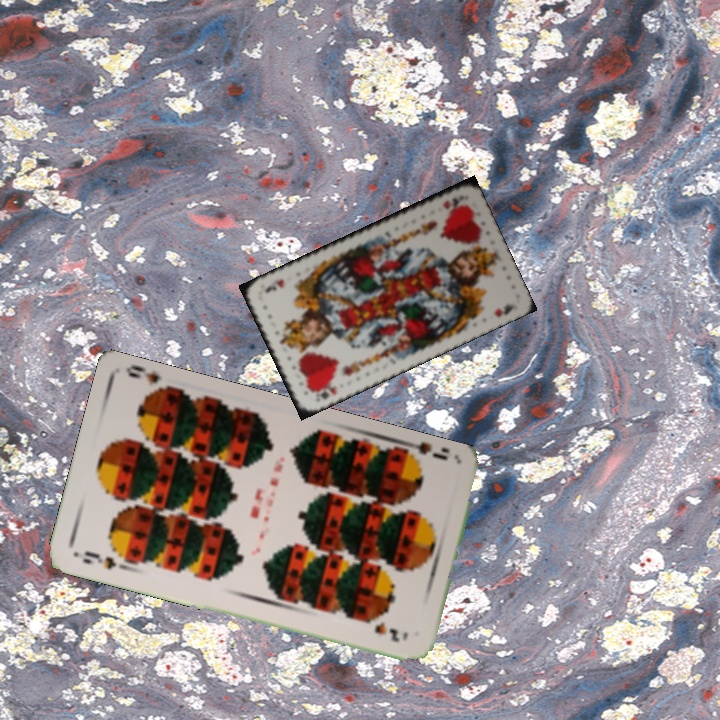HK: (308, 380, 339, 402), (439, 194, 463, 212)
S9: (78, 547, 132, 573), (400, 437, 451, 463)
